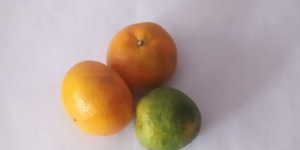BAD: (62, 62, 132, 133), (108, 23, 177, 92), (136, 87, 202, 150)
